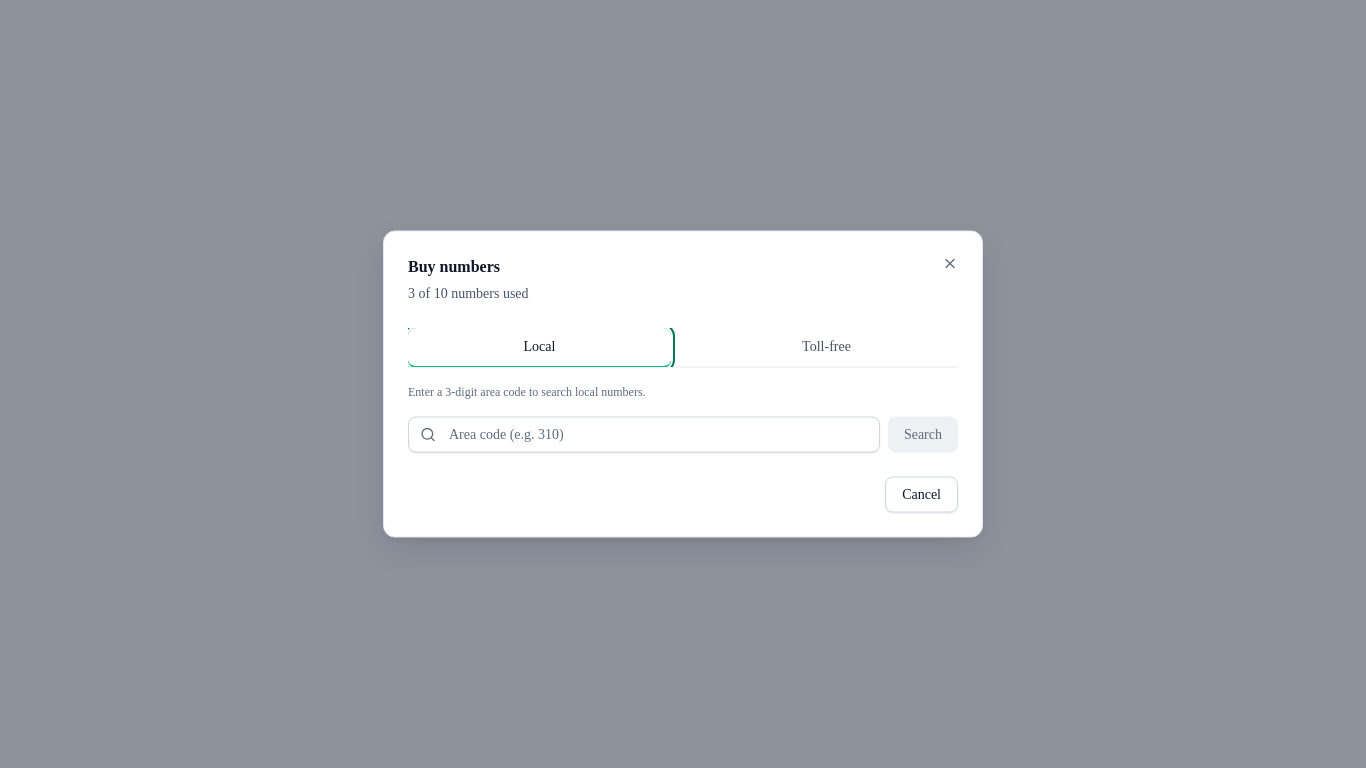
Buy numbers › tells NetEnroll staff which carrier each number is for sale at
Expected: the text "3 of 10 numbers used" is shown, [408,285,528,300]
Type "615" into the field labelled "Area code" at [644, 434], box [408,416,880,452]
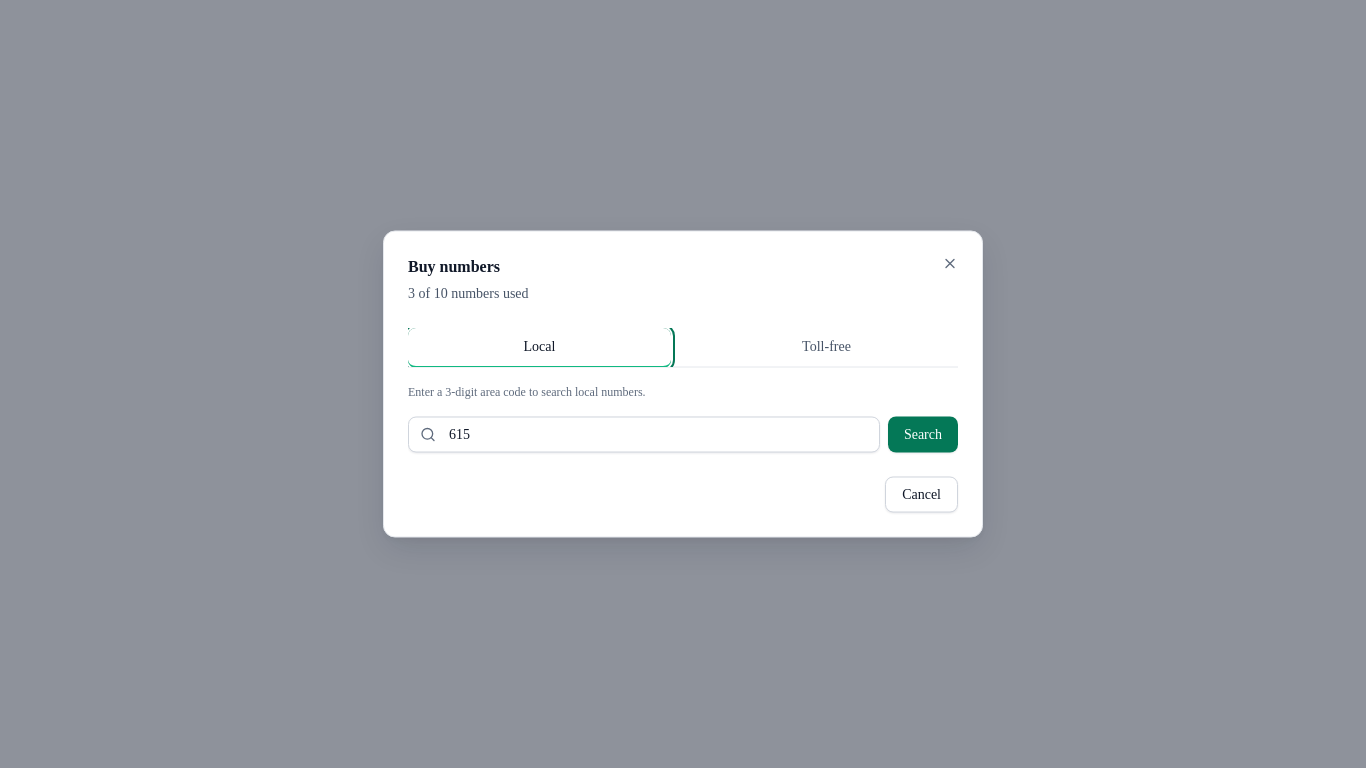
Click the button "Search" at [923, 434], box [888,416,958,452]
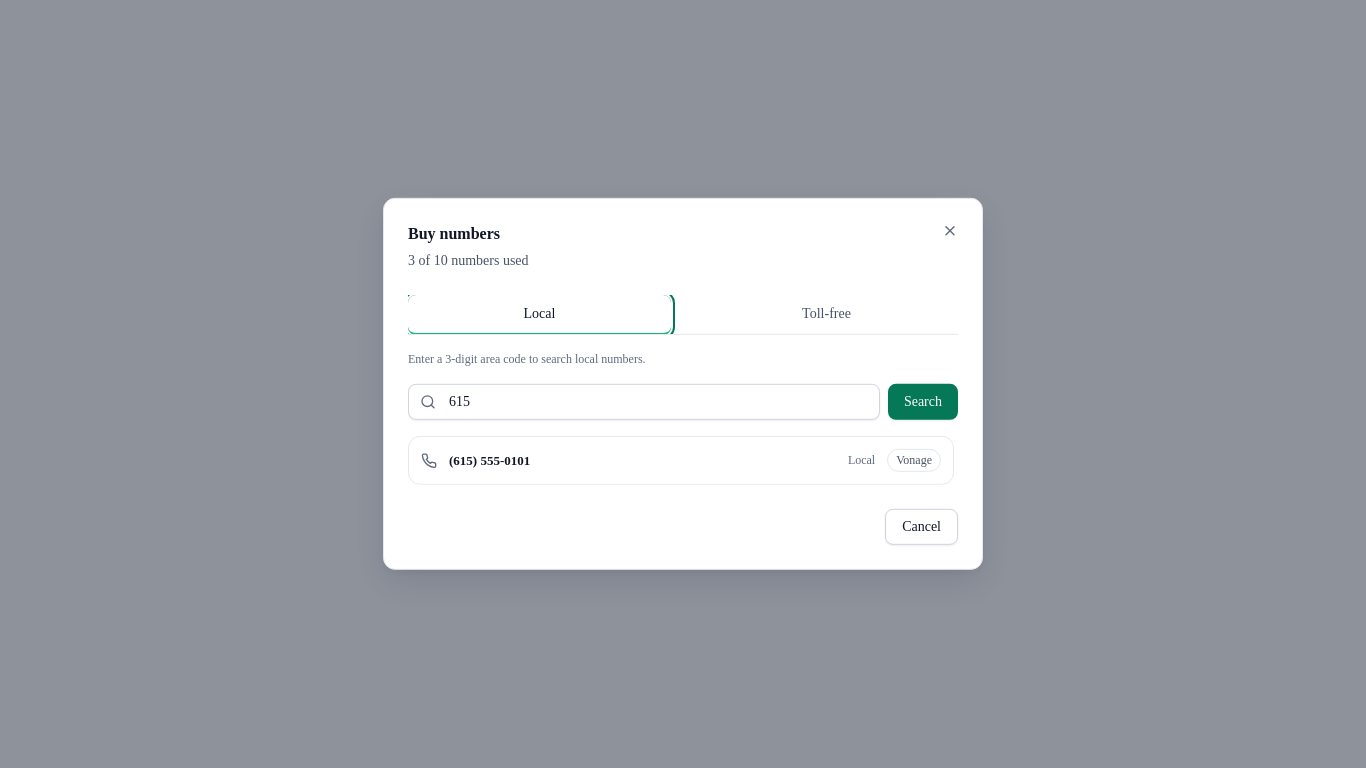
Now the text "(615) 555-0101" is shown, box [449,451,530,470]
Now the text "Vonage" is shown, box [887,449,941,472]
